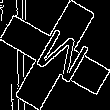M_SW: (22, 22, 88, 88)
